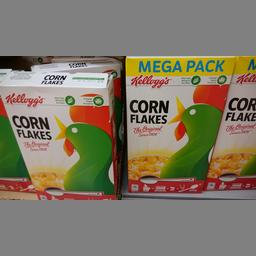cereal: (124, 55, 234, 193), (0, 70, 120, 192)
